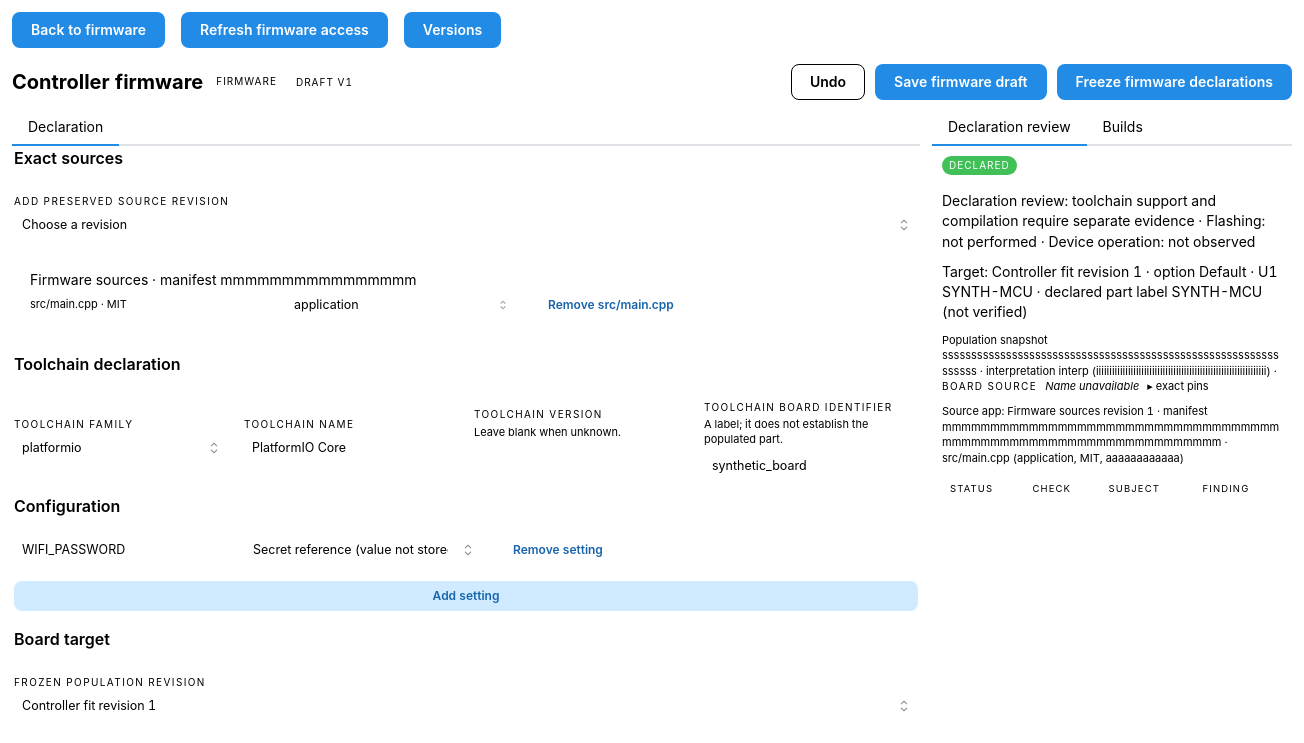
it: conflicting update retains the prepared declaration for explicit recovery
Replace the text in the field labelled "Toolchain name" with "Unsaved conflict buffer" at (351,448), box [244,435,458,461]
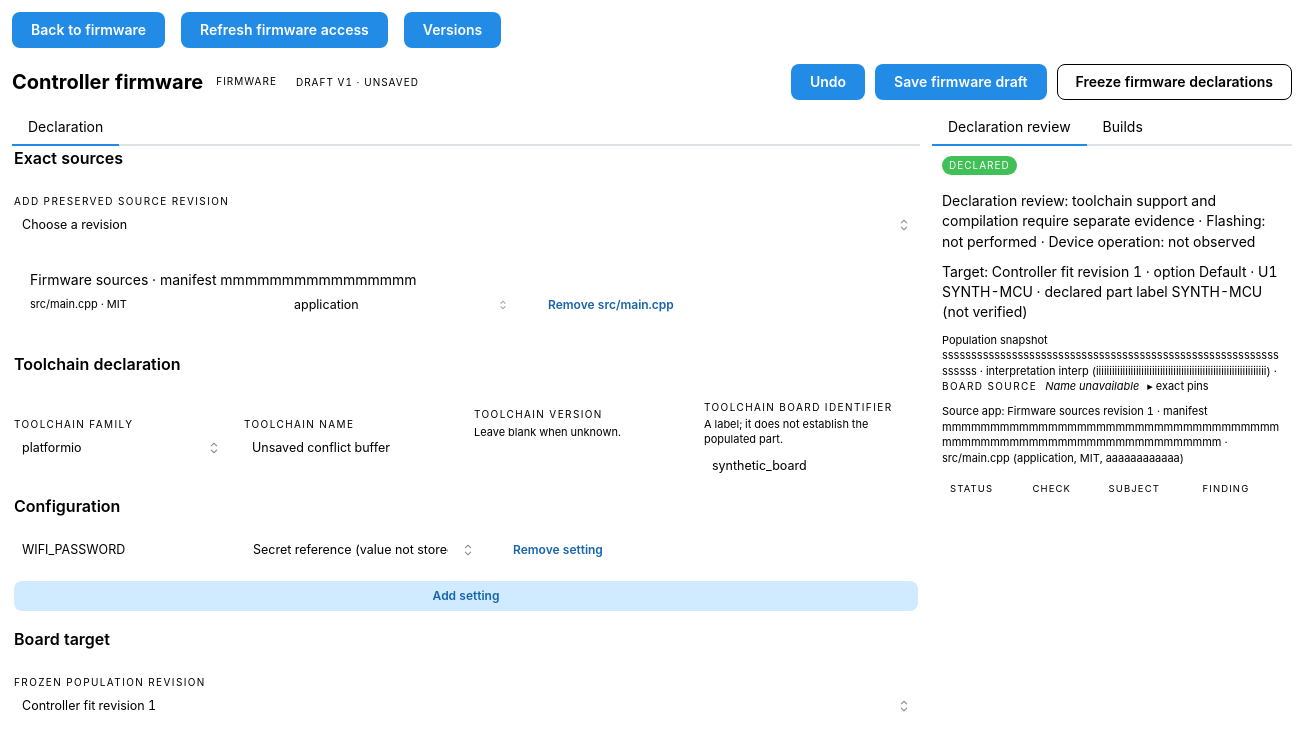
Click the button "Save firmware draft" at (961,82), box [875,64,1046,100]
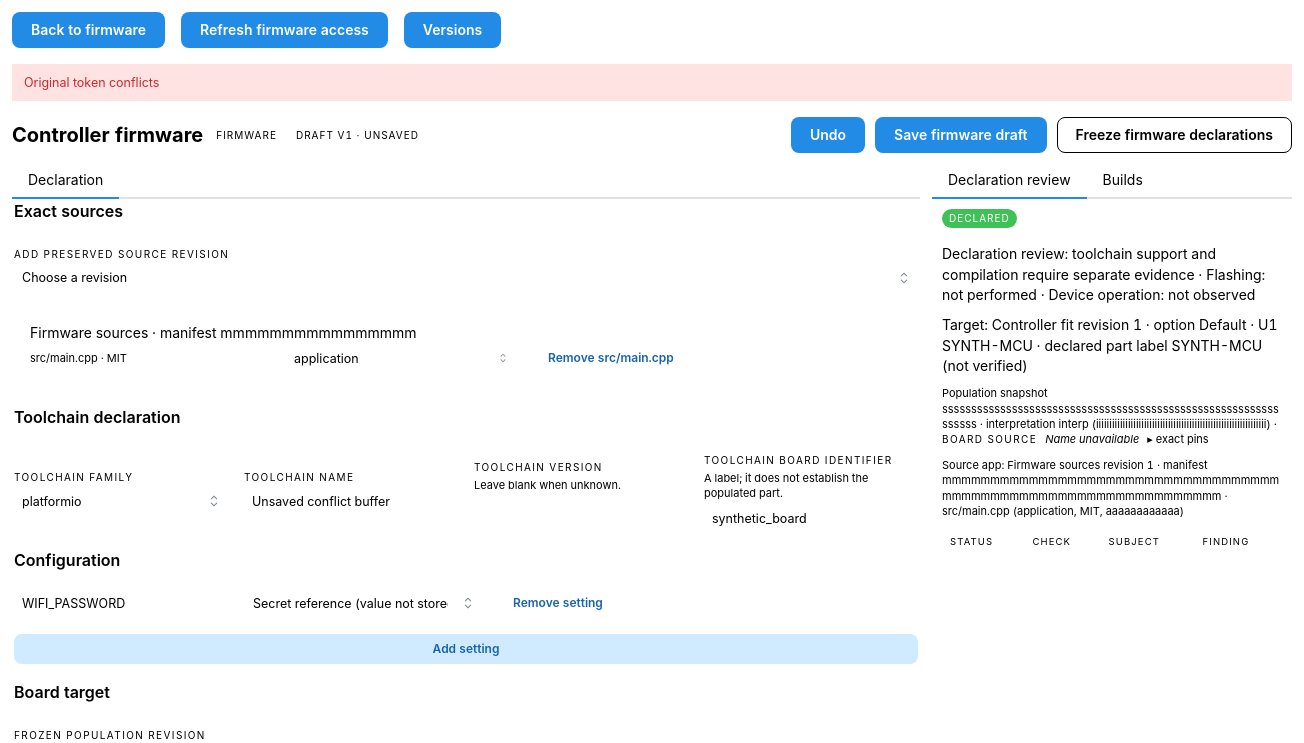
Result: the text "Original token conflicts" is shown at [24,75,159,90]
